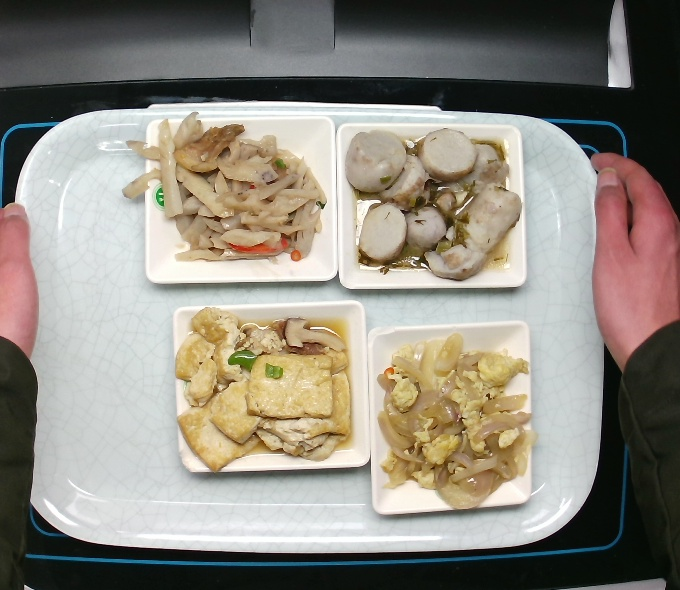wcq-JiaChangDouFu: (172, 304, 356, 472)
wcq-QingChaoOuPian: (119, 107, 333, 271)
wcq-YangCongChaoDan: (370, 332, 539, 514)
wcq-YangYu: (341, 122, 526, 280)
